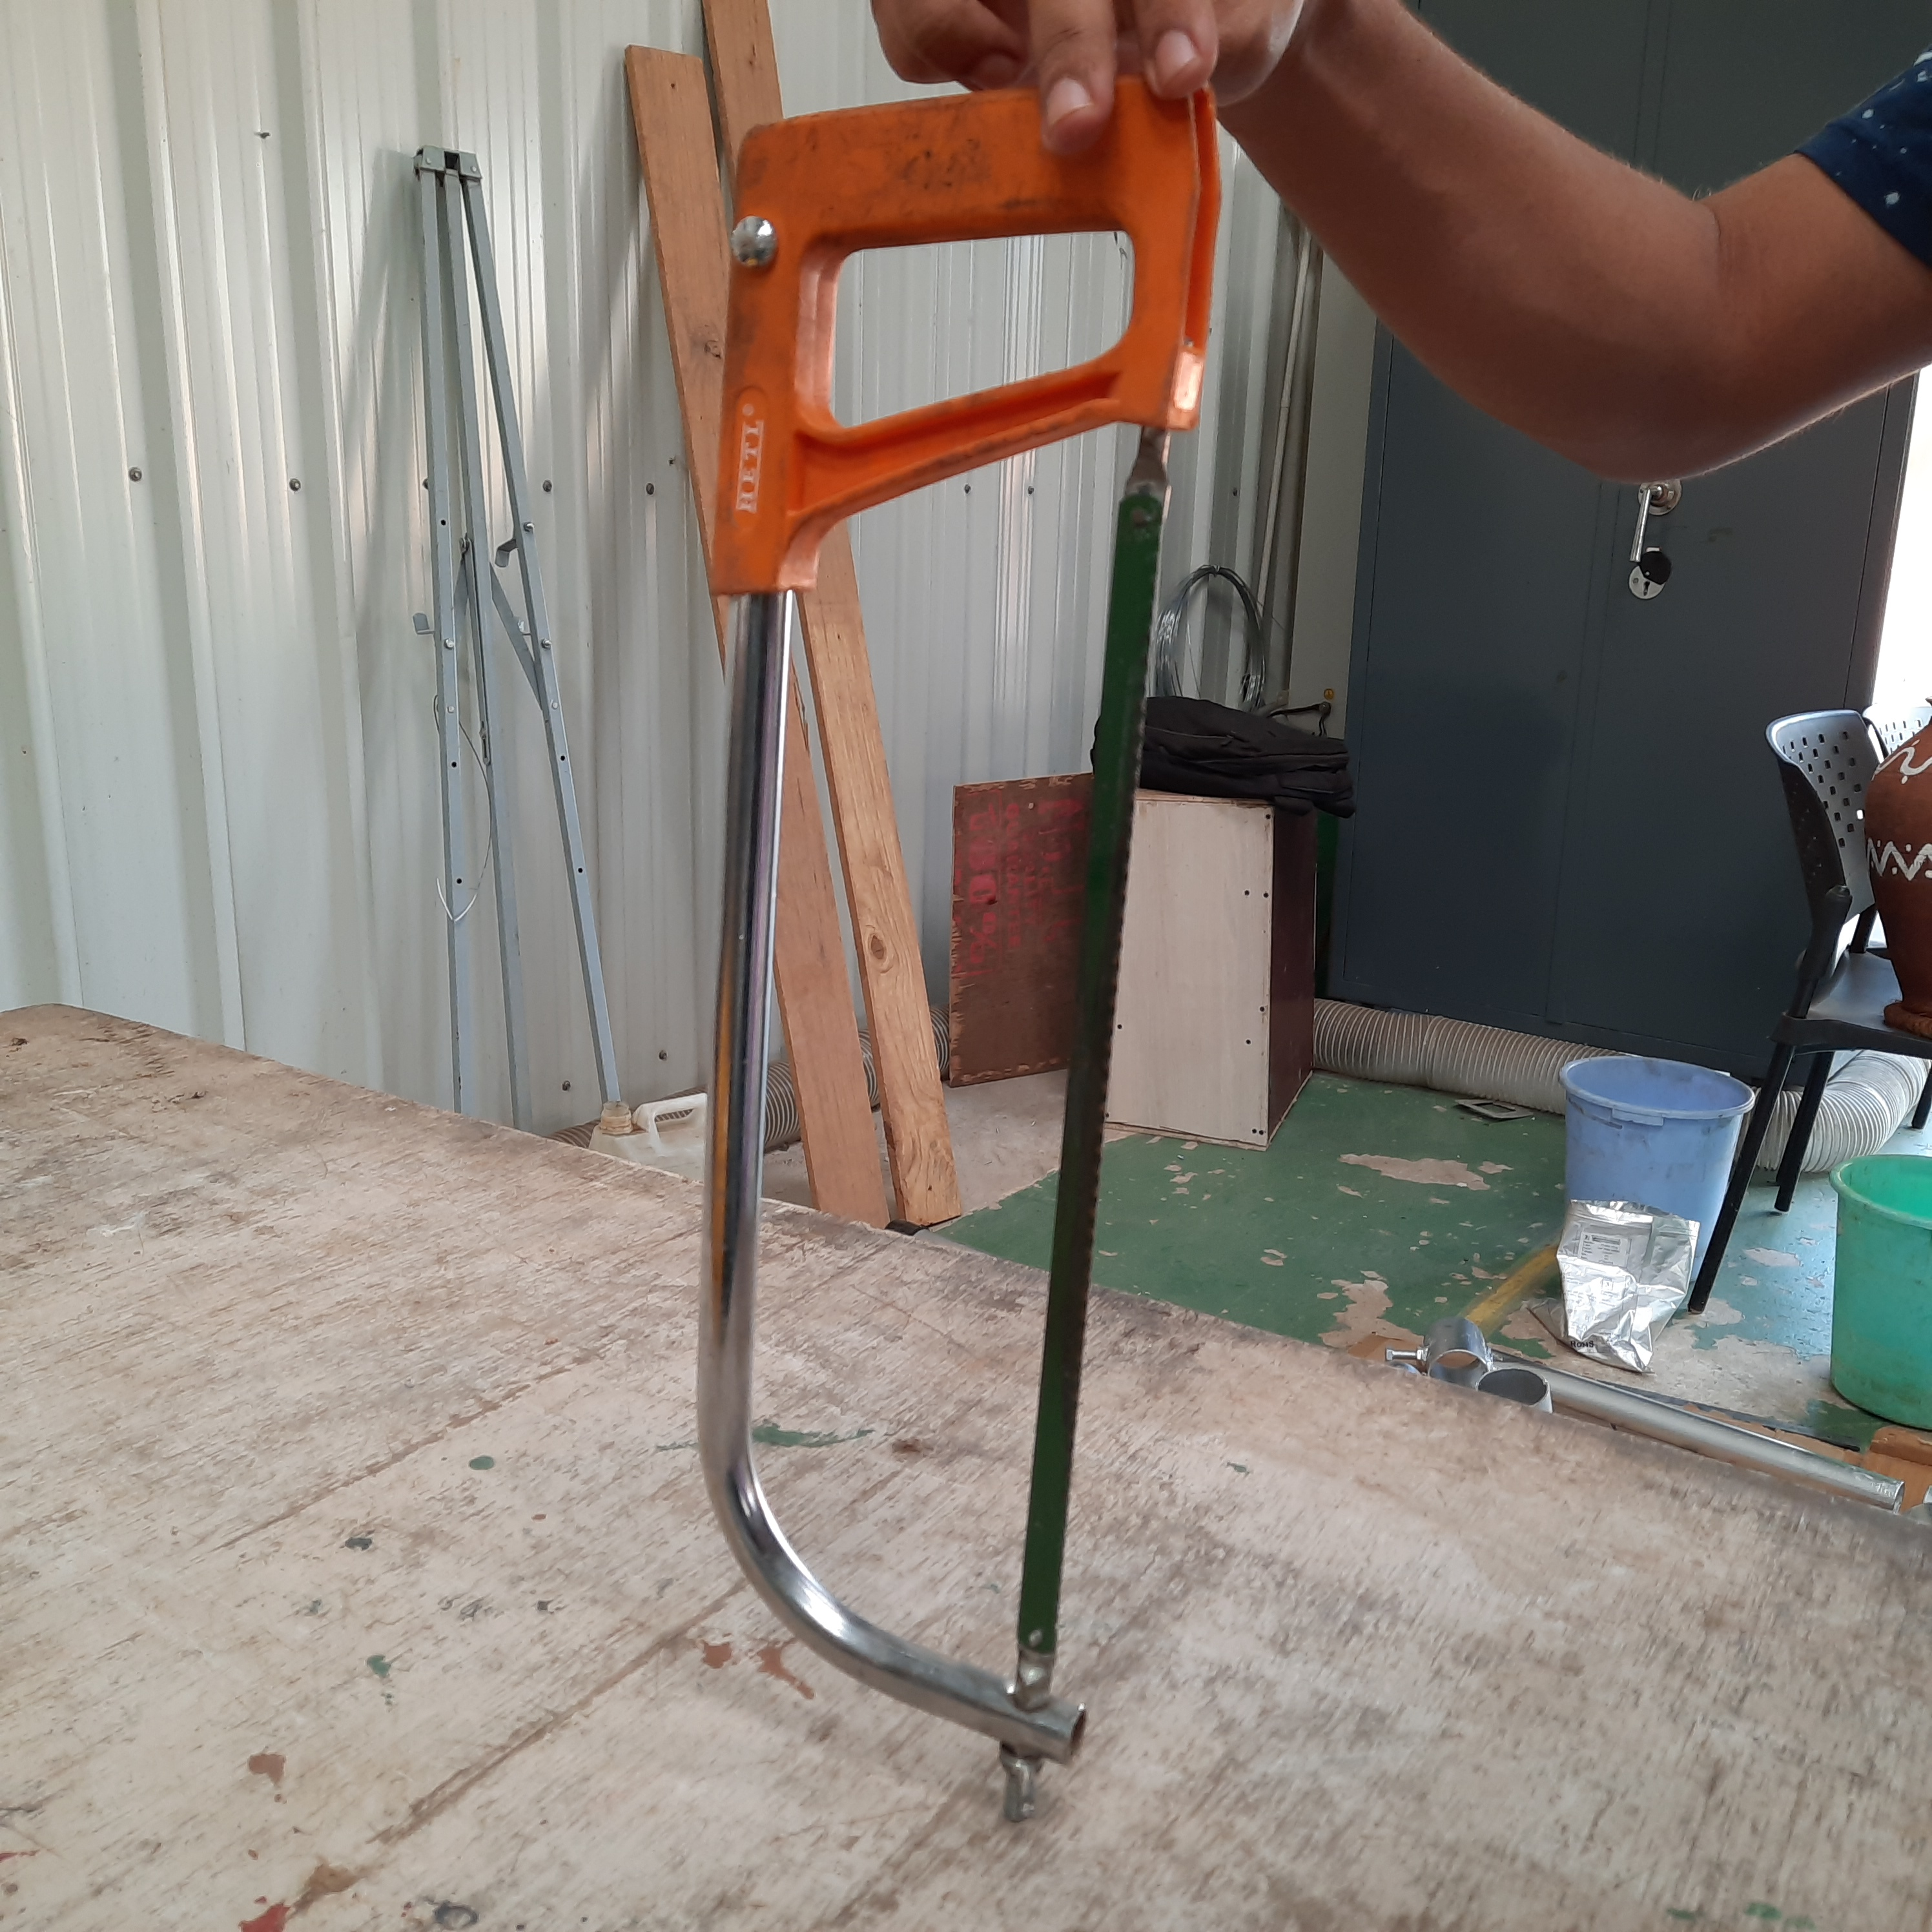Hexaframe: (685, 81, 1205, 1790)
